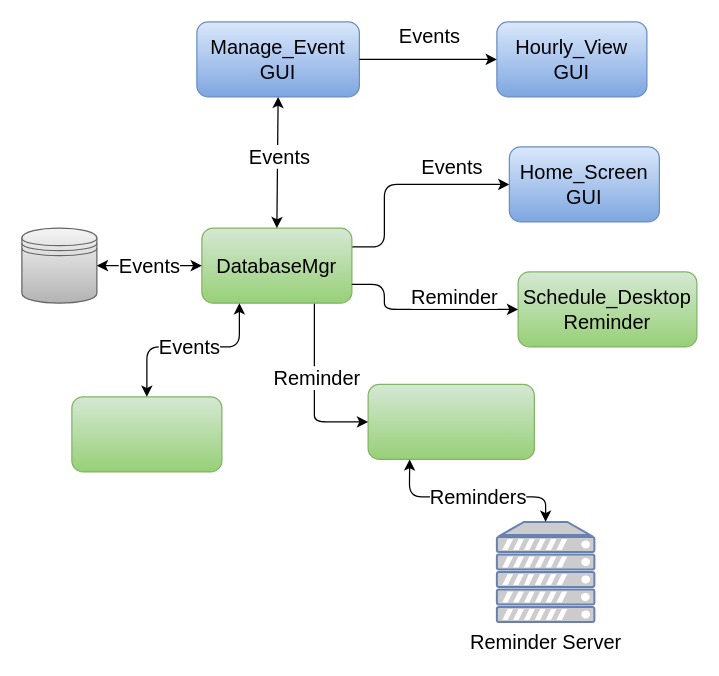
The diagram is 719 pixels wide and 676 high, and some of its shapes have lost their labels. The shapes that lost their labels are listed below. From the top down, each one's box as (x1, y1, x2, y2) in pixels, then its label:
(21, 227, 97, 303): SQLite DB
(71, 396, 222, 472): Ics_File
(367, 383, 534, 459): Schedule_Server Reminder
